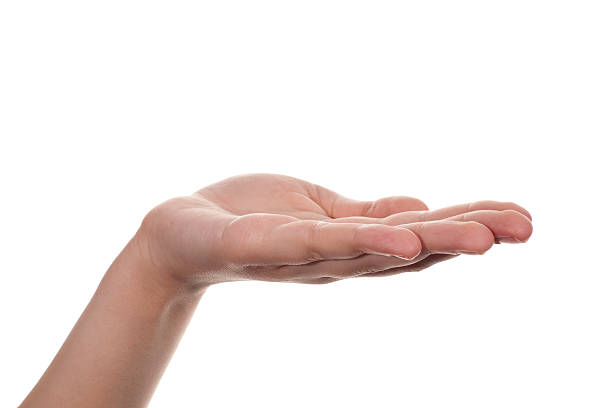hand: (125, 154, 552, 310)
